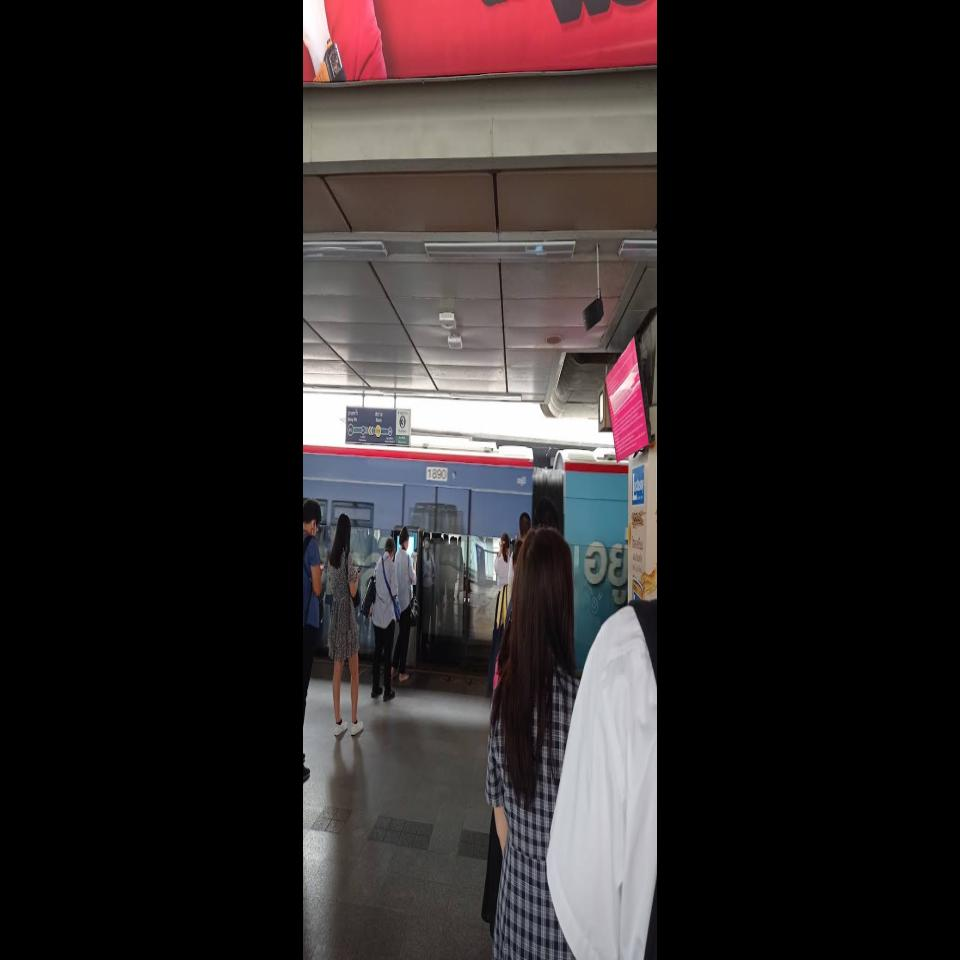signage: (361, 412, 393, 437)
